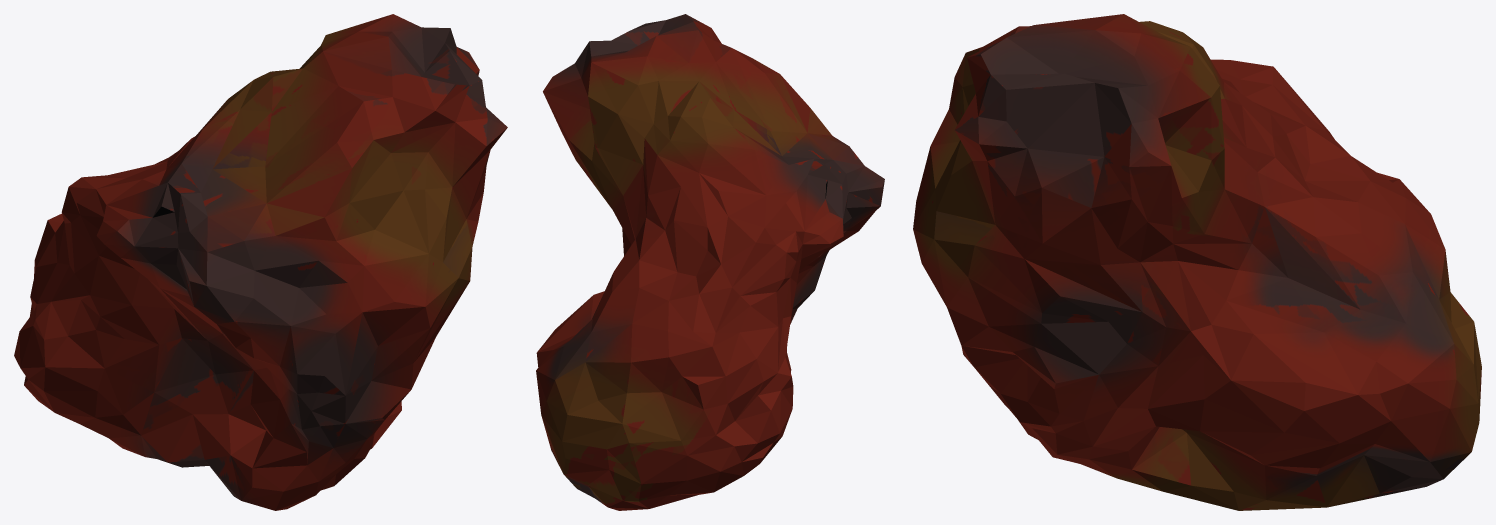
Rendered from Elektra-f836.glb.
3 renders of one model, left to right at view 1: azimuth 30°, elevation 25°; view 2: azimuth 150°, elevation 25°; view 3: azimuth 270°, elevation 25°, orthographic. The views are drawn at different scales.
Parts seen in each view (by area): view 1: Elektra; view 2: Elektra; view 3: Elektra.
Part boxes in pixels (<box>): Elektra: <box>14,14,507,510</box>; Elektra: <box>536,14,884,510</box>; Elektra: <box>913,14,1481,510</box>.
Bounding box in the file's own units: 2.95 × 3.55 × 3.54.
Materials: 1 (1 with a texture image).
